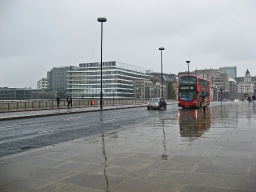bus: (178, 73, 212, 110)
car: (146, 95, 169, 111)
